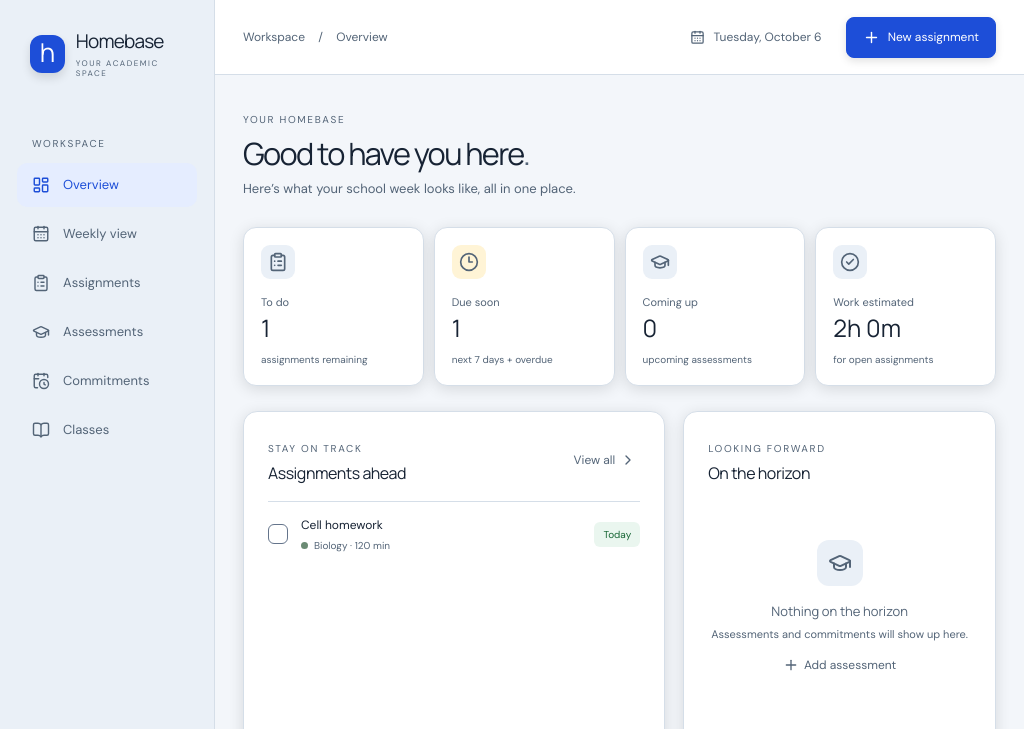
Test: Weekly Planner integration › starts usable without writing an empty schedule and explains explicit availability
This screenshot has width=1024, height=729.
Click the button "Weekly view".
click(107, 234)  # box left=17, top=212, right=197, bottom=256
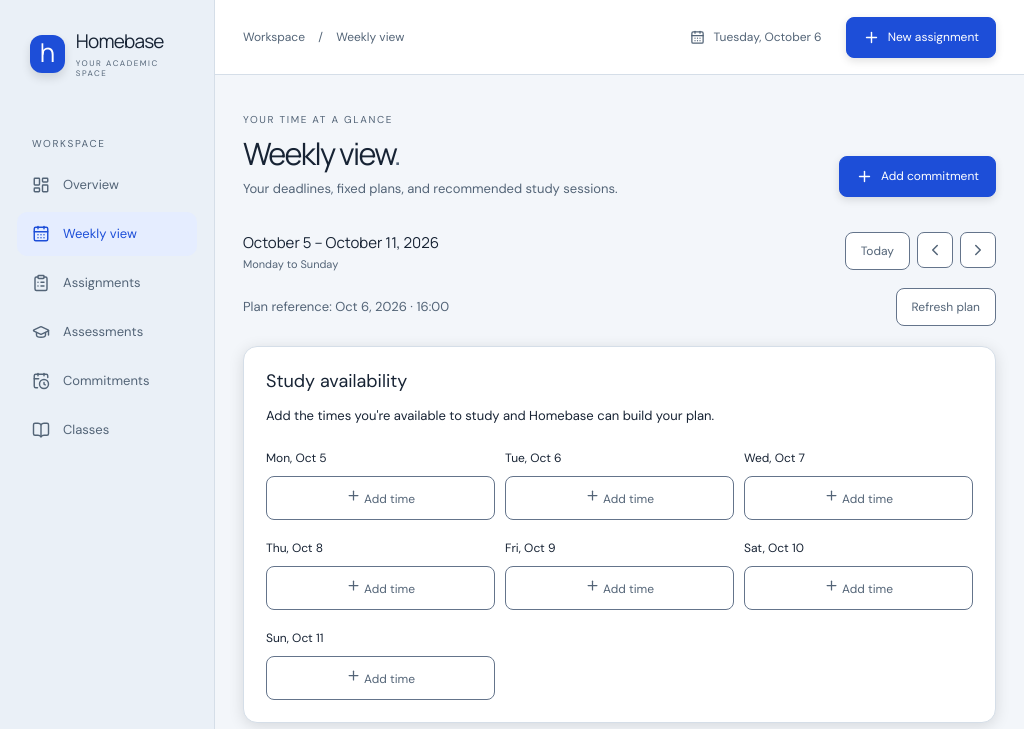
Result: the text "Add the times you're available to study" is shown at left=266, top=407, right=714, bottom=424
Result: the button "Refresh plan" is shown at left=896, top=288, right=996, bottom=326
